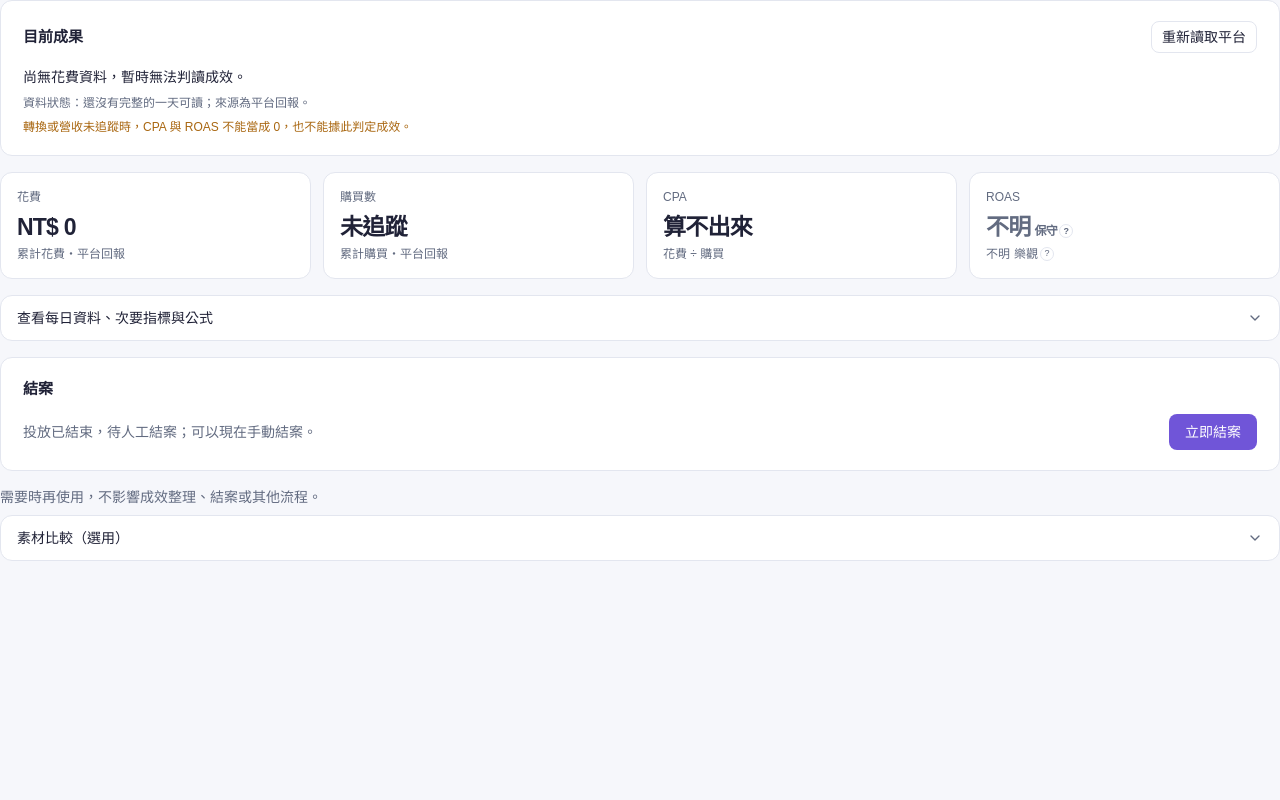
Scenario: F37 結案對話框：缺日不放行，重讀仍失敗才可跳過 › 從沒讀過：說先讀取再結案，不列日子
Click the button "立即結案" at (1213, 432), box [1169,414,1257,450]
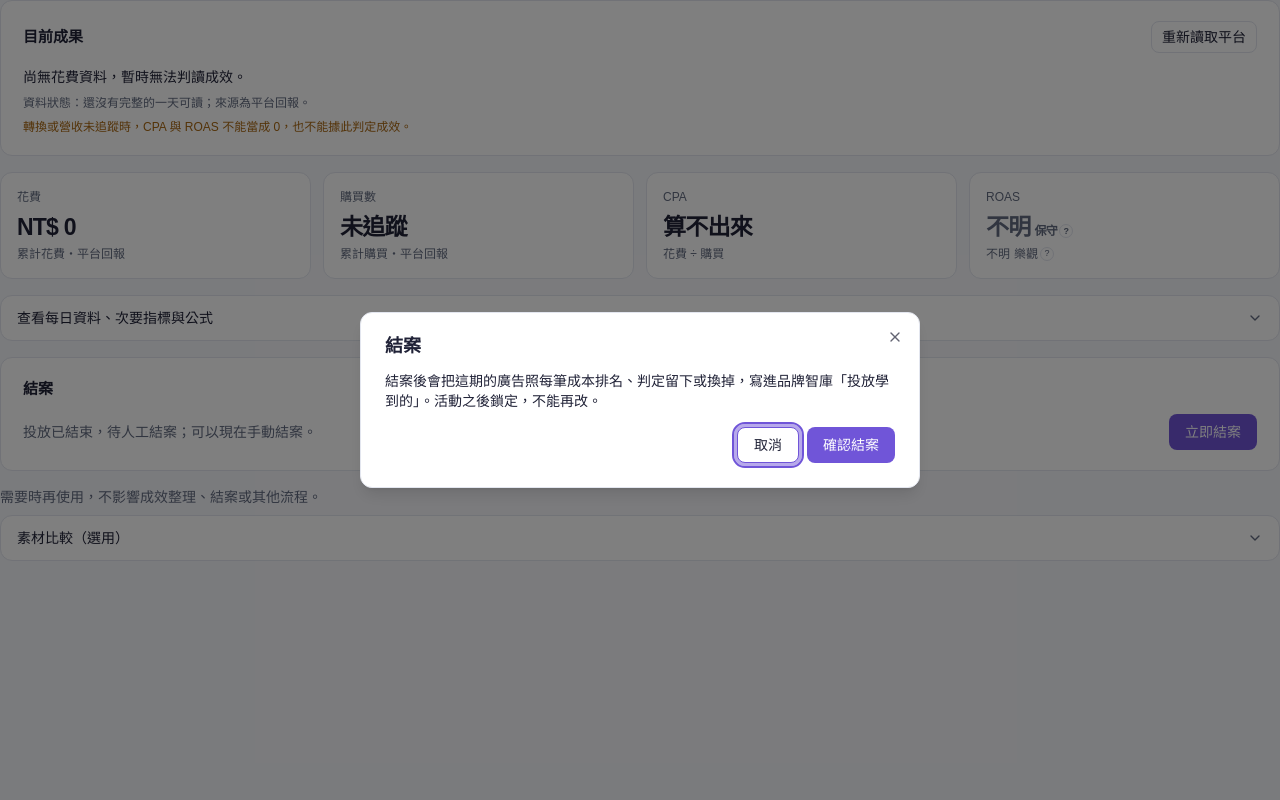
Click the button "確認結案" at (851, 445), box [807,427,895,463]
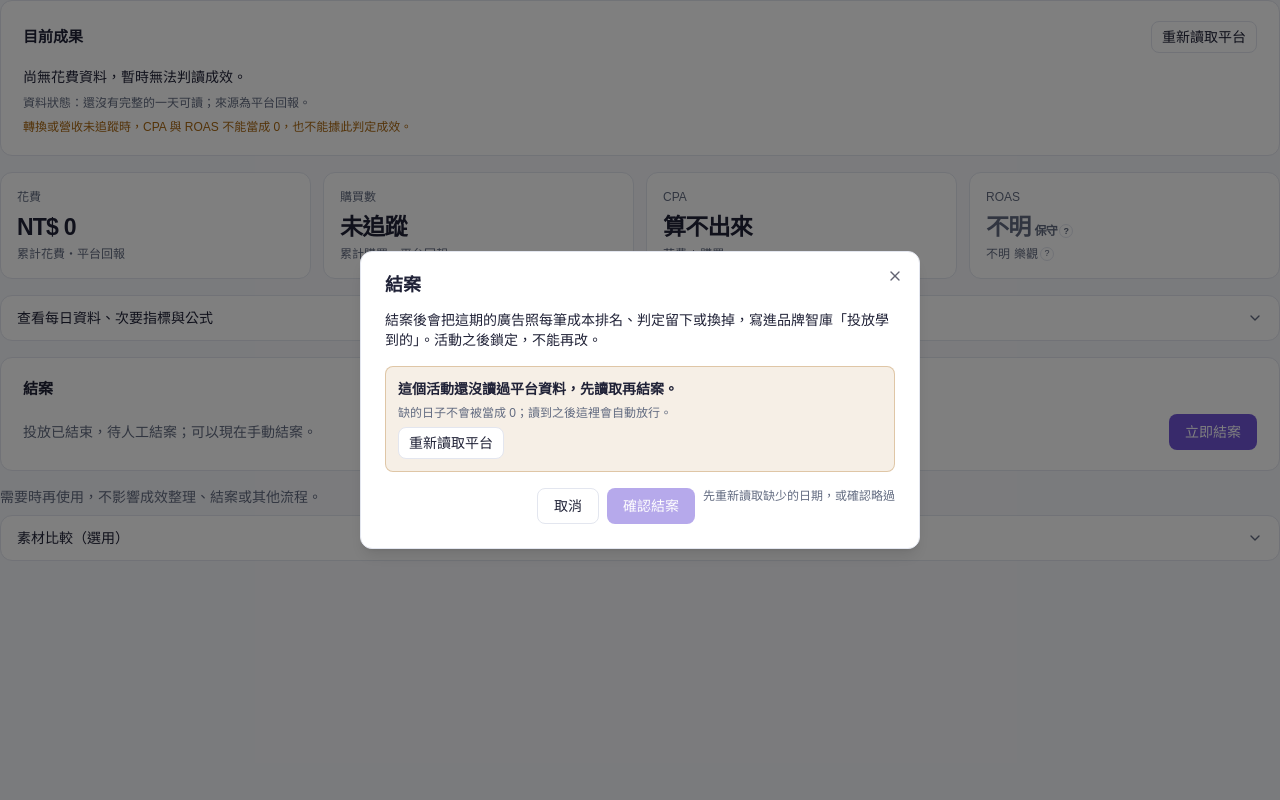
Now the text "這個活動還沒讀過平台資料，先讀取再結案。" is shown, box [398,381,678,397]
Now the button "確認結案" is disabled, box [607,488,695,524]
